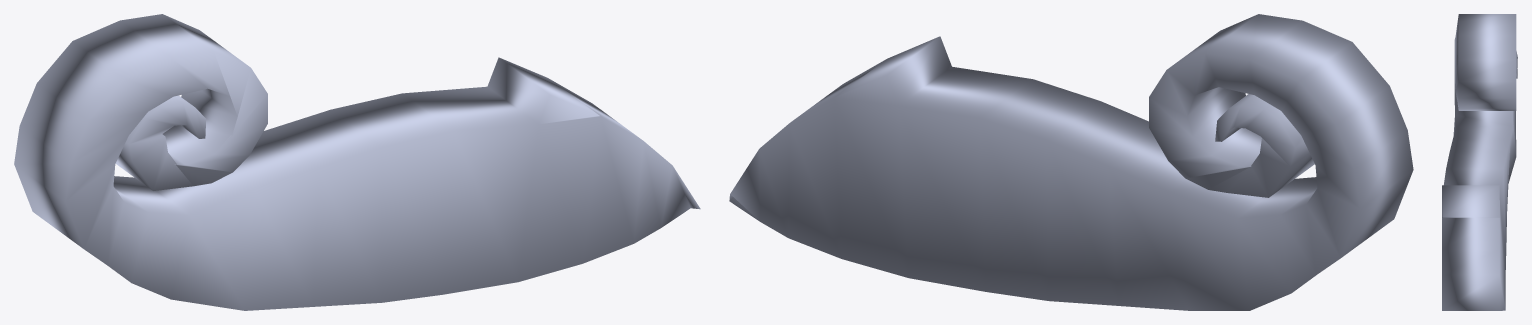
File: カメレオン.glb
The picture shows the model from 3 angles, left to right: view 1: azimuth 30°, elevation 25°; view 2: azimuth 150°, elevation 25°; view 3: azimuth 270°, elevation 25°; orthographic projection. The views are drawn at different scales.
Visible parts, largest first — view 1: Cube; view 2: Cube; view 3: Cube.
Part boxes in pixels (x1,y1,x2,y2): Cube: [14, 14, 700, 310]; Cube: [729, 14, 1413, 310]; Cube: [1442, 14, 1517, 310].
Bounding box in the file's own units: 4.96 × 2.29 × 0.9402.
